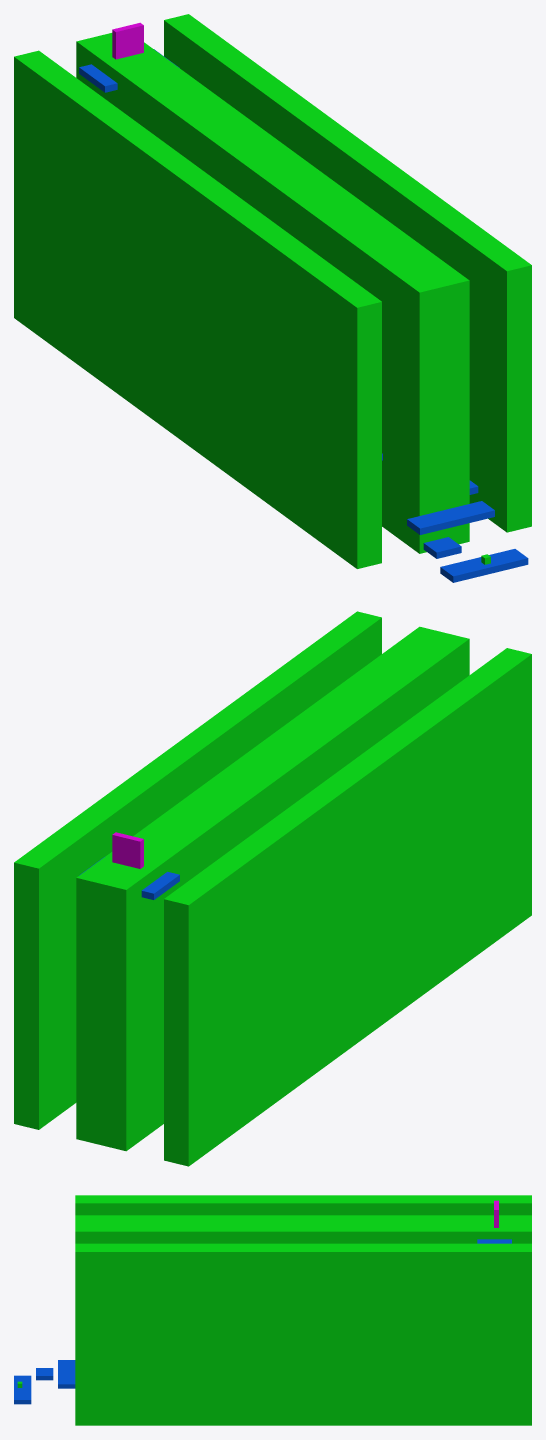
The model's file is level_cora.fbx.
3 views of the same model, one above another, from view 1: azimuth 30°, elevation 25°; view 2: azimuth 150°, elevation 25°; view 3: azimuth 270°, elevation 25° (orthographic). The views are drawn at different scales.
Parts seen in each view (by area): view 1: MovingPlat_pusher_start, MovingPlat_puller_end, MovingPlat_pusher_end, MovingPlat_puller_start, ExitDoor; view 2: MovingPlat_pusher_start, MovingPlat_puller_end, MovingPlat_pusher_end, MovingPlat_puller_start, ExitDoor; view 3: MovingPlat_puller_end, MovingPlat_pusher_start, MovingPlat_puller_start, MovingPlat_pusher_end.
Boxes of the visible parts, bbox=[...] form: MovingPlat_pusher_start: bbox=[14, 50, 381, 568]; MovingPlat_puller_end: bbox=[164, 14, 531, 532]; MovingPlat_pusher_end: bbox=[76, 35, 444, 553]; MovingPlat_puller_start: bbox=[102, 33, 469, 544]; ExitDoor: bbox=[112, 22, 143, 59]; MovingPlat_pusher_start: bbox=[164, 648, 531, 1166]; MovingPlat_puller_end: bbox=[14, 611, 381, 1129]; MovingPlat_pusher_end: bbox=[101, 632, 469, 1151]; MovingPlat_puller_start: bbox=[76, 626, 443, 1144]; ExitDoor: bbox=[112, 832, 143, 868]; MovingPlat_puller_end: bbox=[75, 1243, 531, 1425]; MovingPlat_pusher_start: bbox=[75, 1195, 531, 1215]; MovingPlat_puller_start: bbox=[75, 1223, 531, 1243]; MovingPlat_pusher_end: bbox=[75, 1215, 531, 1223].
Size of the model in its own units: 1400 by 2210 by 5400.
